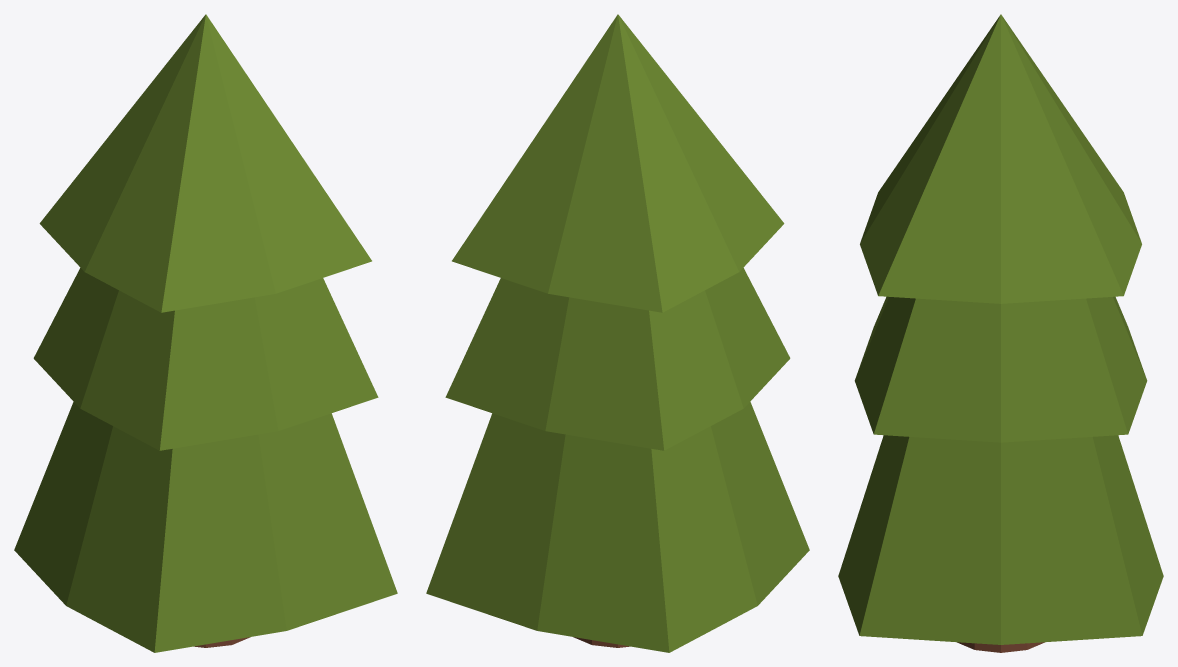
Rendered from Tree_23_autumn_mat.fbx.
3 views of the same model, side by side, from view 1: azimuth 30°, elevation 25°; view 2: azimuth 150°, elevation 25°; view 3: azimuth 270°, elevation 25° (orthographic).
Visible parts, largest first — view 1: Tree_23_autumn_mat; view 2: Tree_23_autumn_mat; view 3: Tree_23_autumn_mat.
Part boxes in pixels (<box>): Tree_23_autumn_mat: <box>14,14,397,652</box>; Tree_23_autumn_mat: <box>426,14,809,652</box>; Tree_23_autumn_mat: <box>838,14,1163,652</box>.
Size of the model in its own units: 90.1 by 188 by 90.1.
